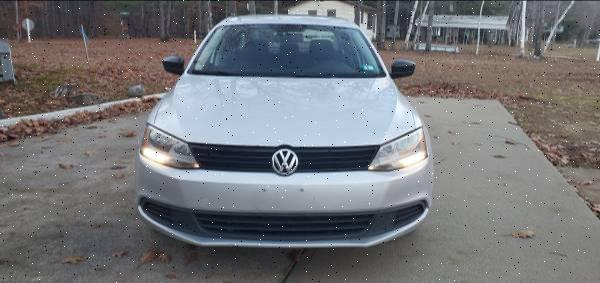Front_Bumper: (136, 150, 435, 254)
Front_Windshield: (185, 22, 385, 76)
Grille: (189, 143, 382, 176)
Hood: (151, 75, 420, 148)
Left_Headlight: (368, 125, 427, 172)
Left_Mirror: (391, 60, 416, 76)
Right_Headlight: (142, 123, 201, 169)
Right_Mirror: (162, 56, 186, 74)
Roof: (213, 11, 358, 27)
